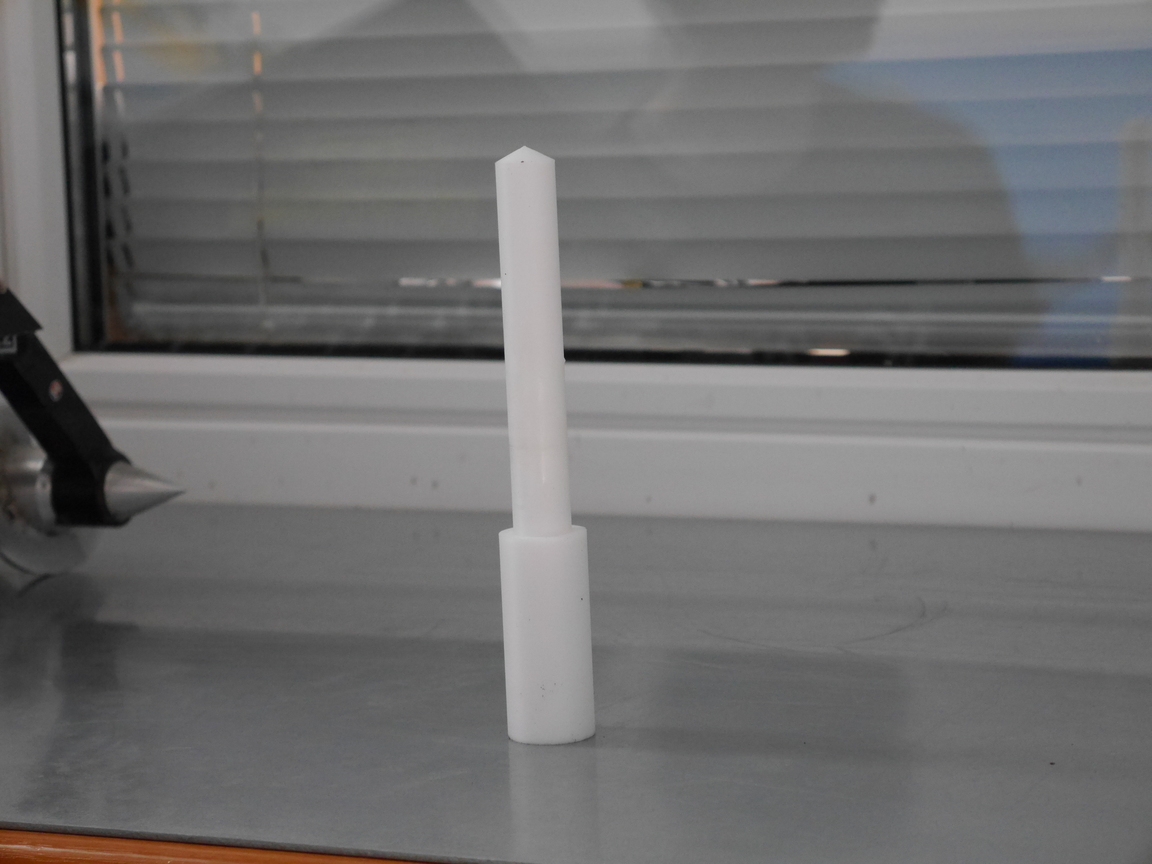cargo_g: (496, 146, 595, 744)
